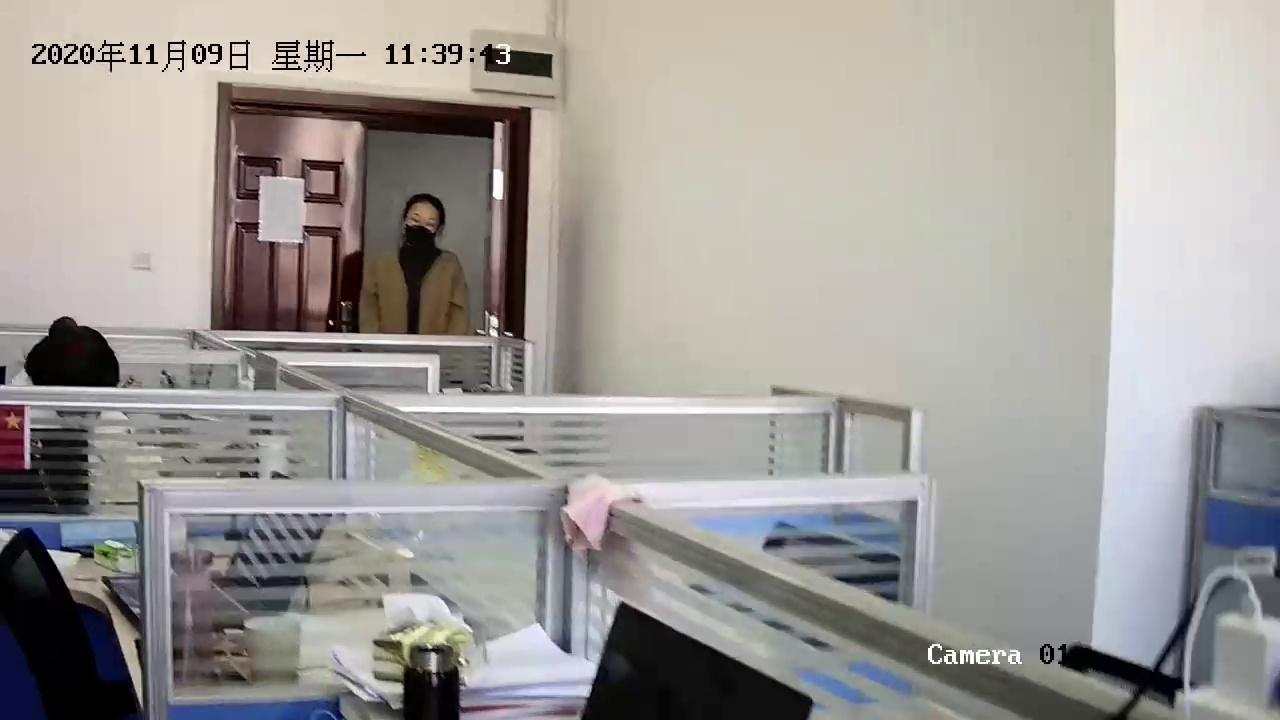mask: (393, 193, 444, 251)
